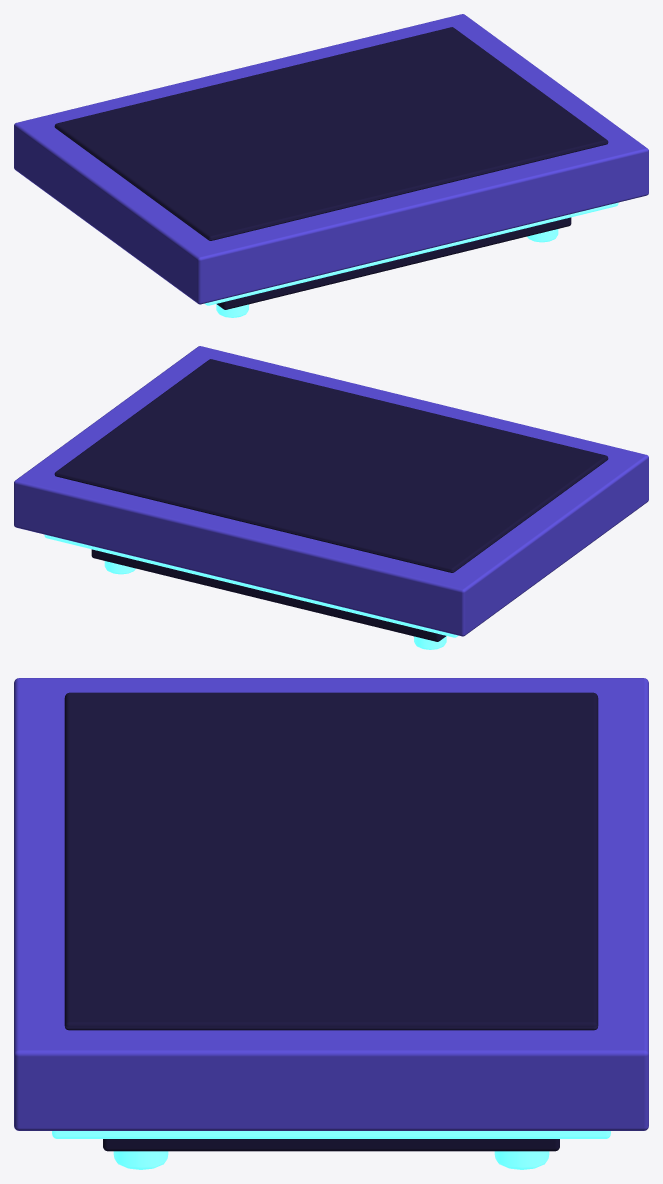
File: platform.glb
3 views of the same model, one above another, from view 1: azimuth 30°, elevation 25°; view 2: azimuth 150°, elevation 25°; view 3: azimuth 270°, elevation 25° (orthographic). The views are drawn at different scales.
Parts seen in each view (by area): view 1: Platform; view 2: Platform; view 3: Platform.
Boxes of the visible parts, bbox=[...] form: Platform: bbox=[14, 14, 648, 317]; Platform: bbox=[14, 346, 648, 649]; Platform: bbox=[14, 678, 648, 1169].
Size of the model in its own units: 7 by 1.51 by 5.
